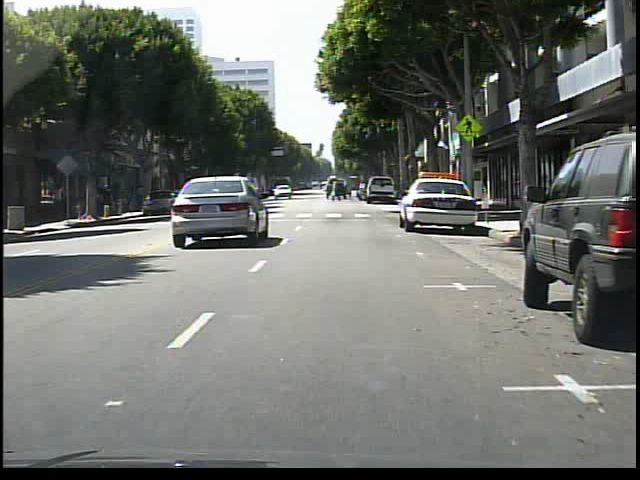person: (99, 187, 112, 219), (53, 182, 64, 218), (95, 186, 105, 217), (335, 176, 336, 199)
